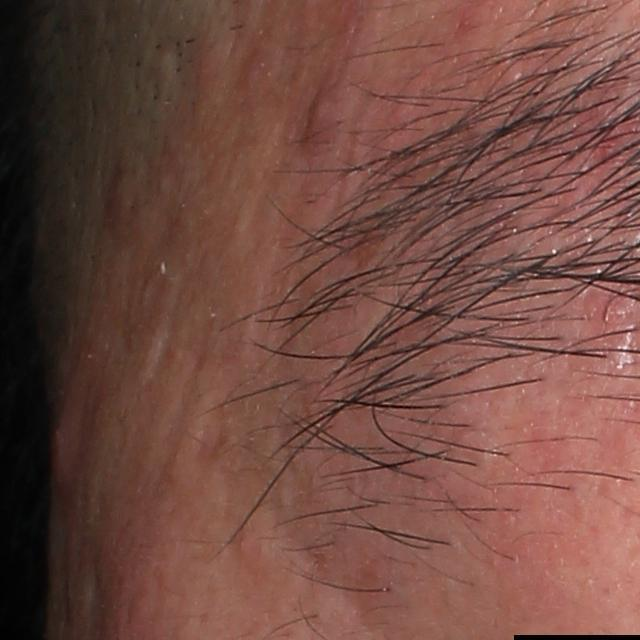papule: (42, 391, 88, 500), (185, 37, 230, 105), (304, 87, 343, 140)
